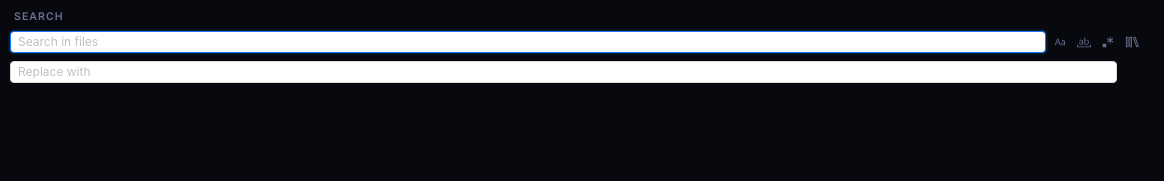
Test case: searching every project › says so when it could not look everywhere
Click the button named "search every project" at (1132, 42), box [1122, 31, 1142, 53]
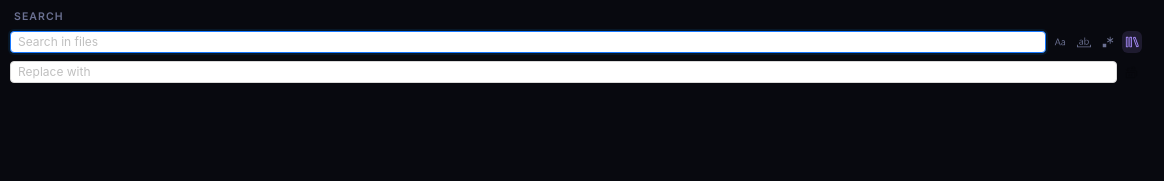
Type "pool" into the field with placeholder "Search in files" at (520, 42), box [18, 32, 1022, 52]
Wait 400 ms
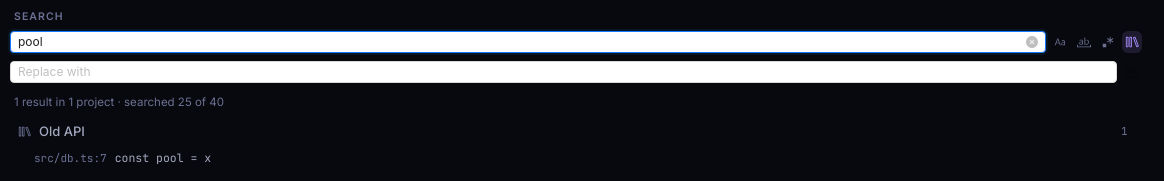
Now the text "1 result in 1 project · searched 25 of 40" is shown, box [14, 95, 224, 109]
